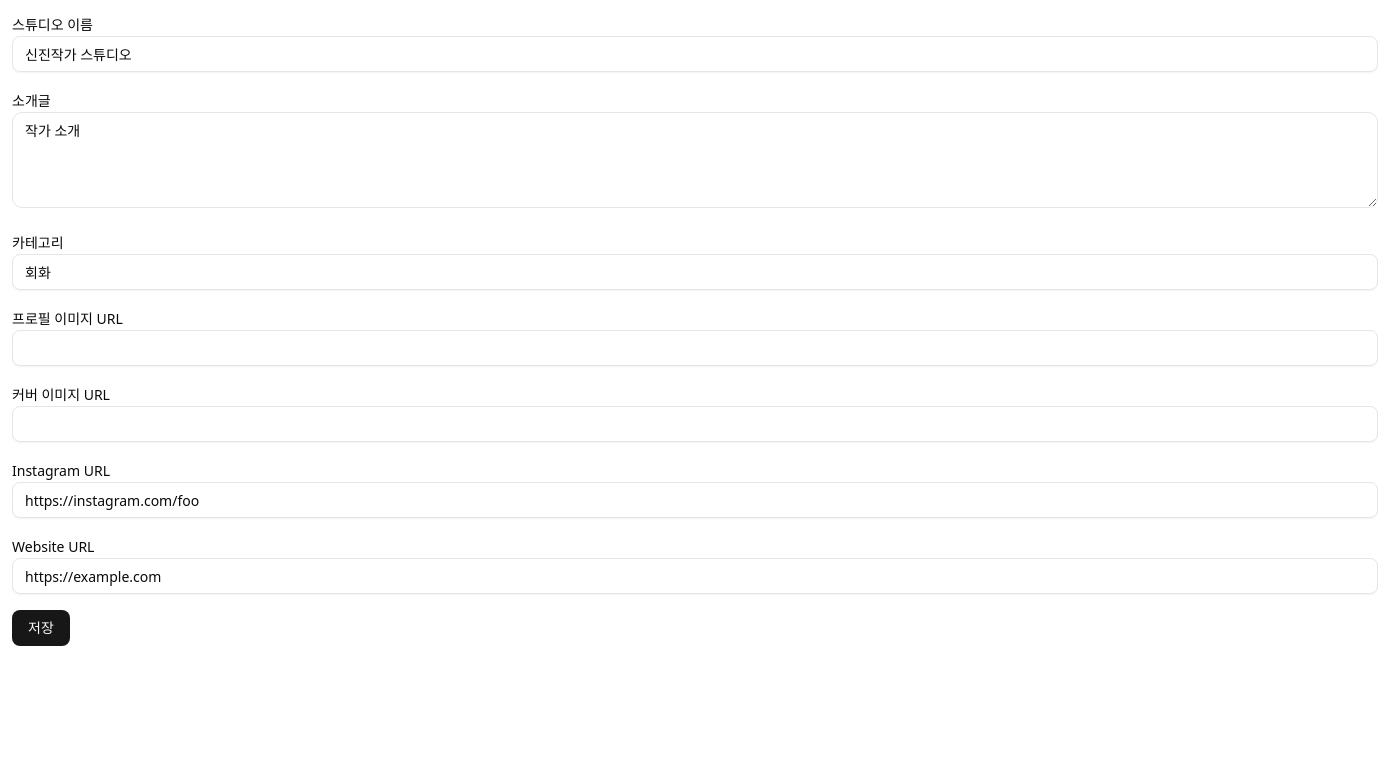
it: StudioEditForm (AC-005) › shows fallback error when response body cannot be parsed
Click the button "저장" at [41, 628], box top-left (12, 610), bottom-right (70, 646)
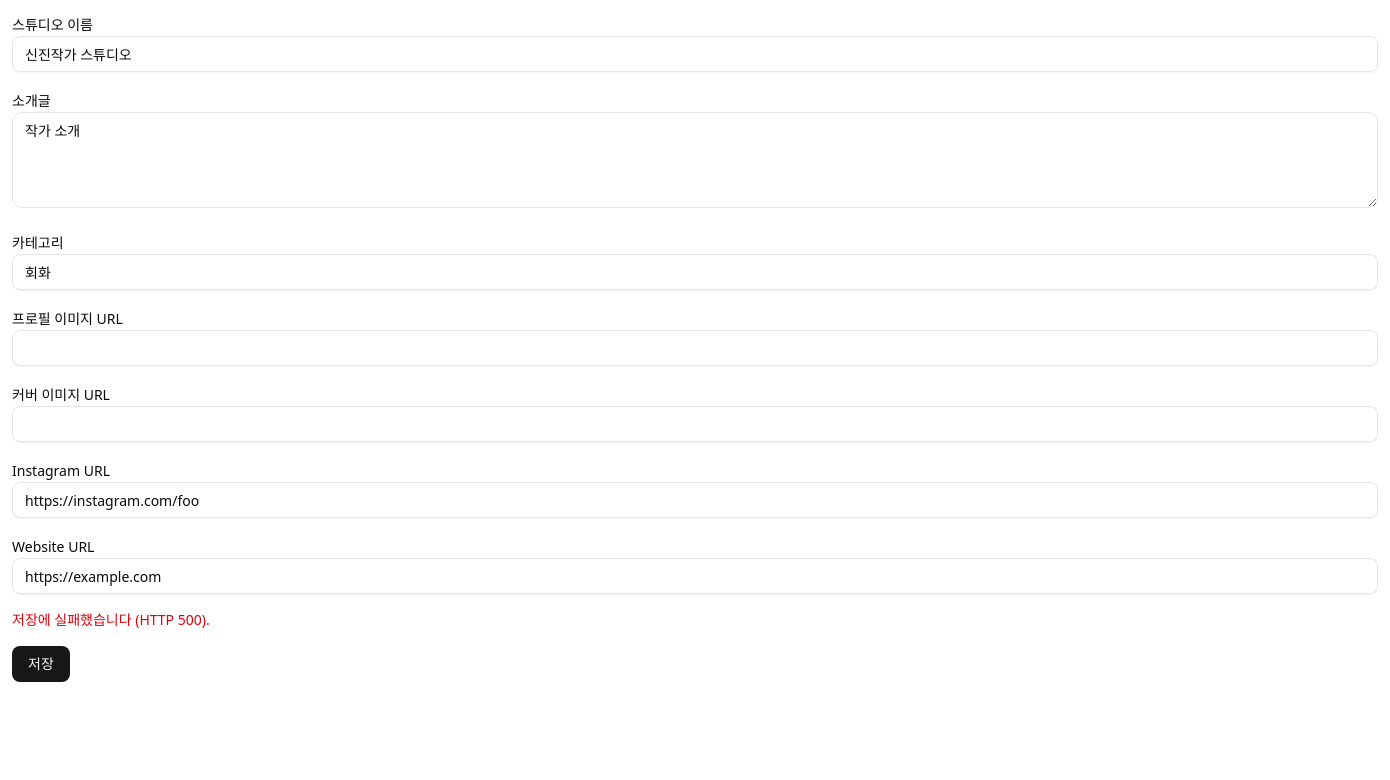
expect the text "저장에 실패했습니다 (HTTP 500)." is shown: met, box top-left (12, 610), bottom-right (210, 629)
